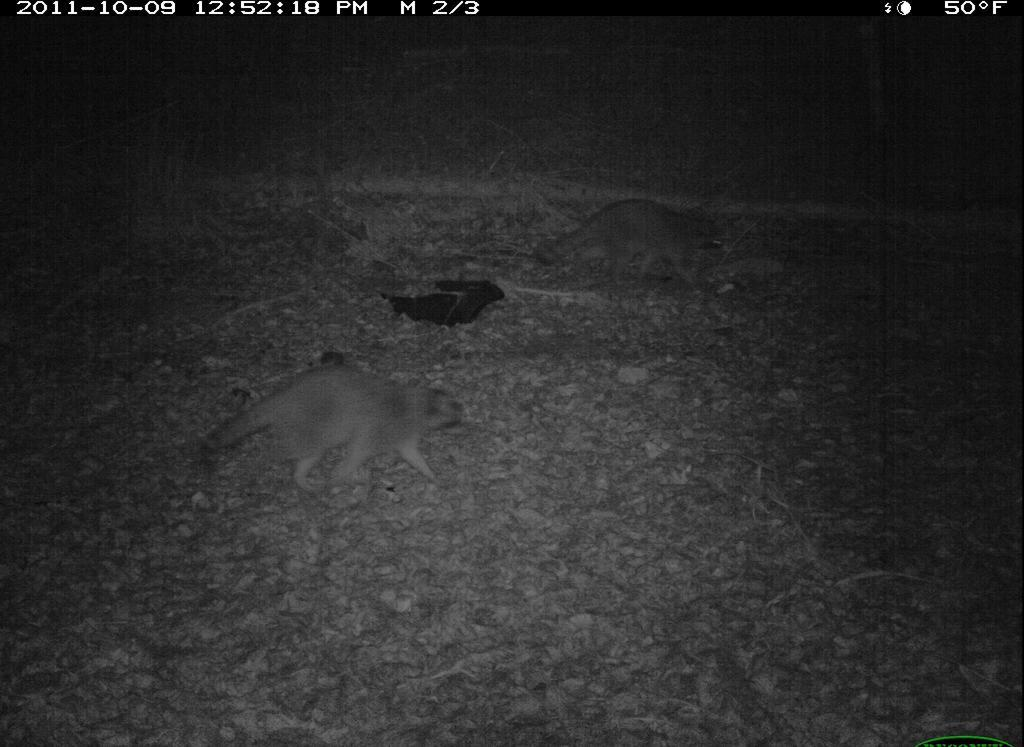raccoon: (198, 358, 473, 495), (525, 188, 749, 305)
